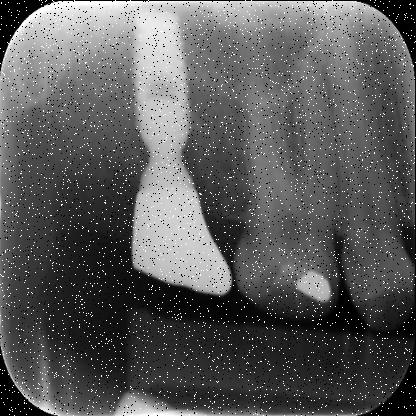Bicon: (131, 12, 200, 147)
